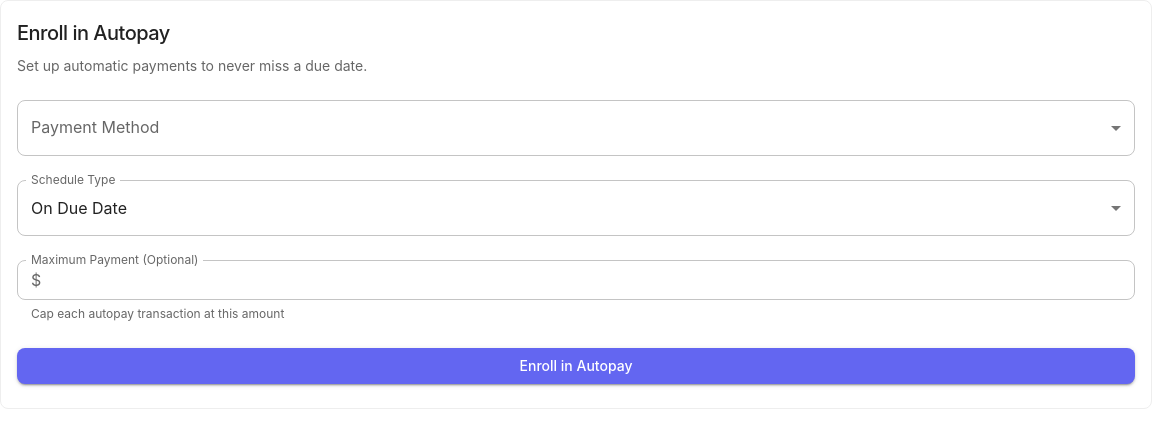
Test: AutopayEnrollment › schedule type selection › hides day of month when due_date is selected
The image size is (1152, 426).
Click the dropdown named "schedule type": {"x": 79, "y": 208} [31,198,127,218]
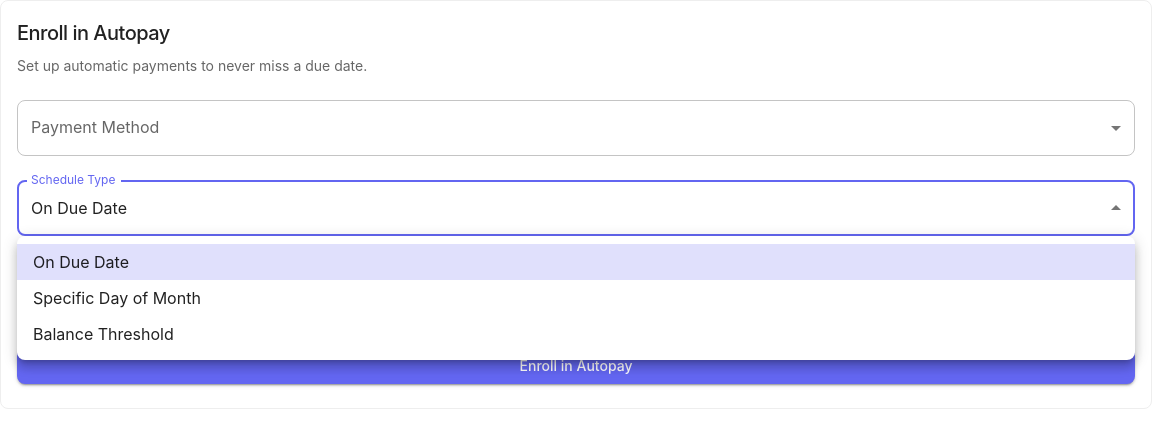
Click the option "On Due Date": {"x": 81, "y": 262} [17,244,1135,280]
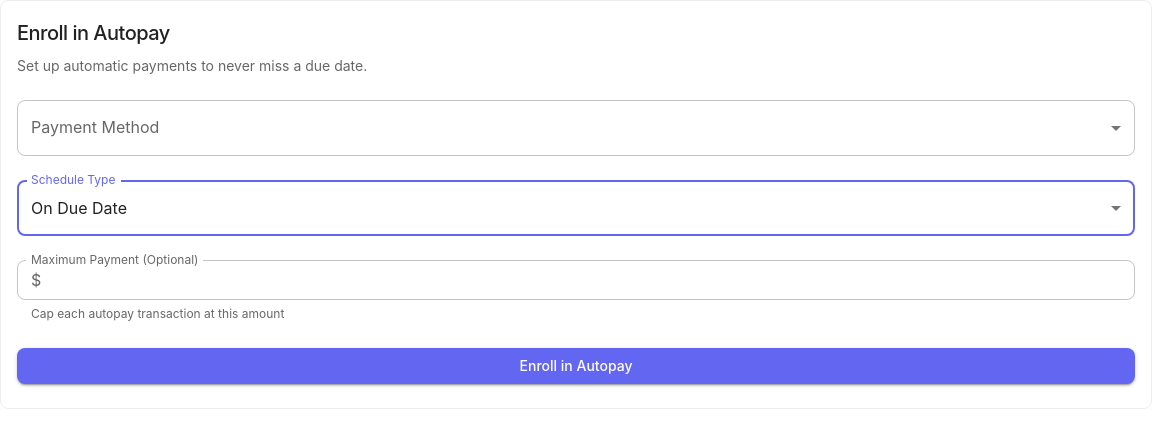
Now the option labelled "Day of Month" is gone
